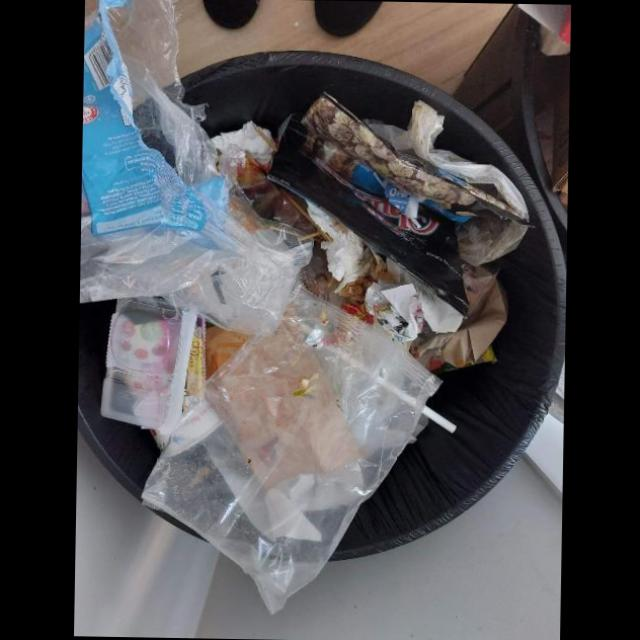bao_bi_thuc_pham: (266, 91, 529, 315)
giay: (409, 263, 508, 370), (305, 198, 375, 292), (364, 280, 423, 342), (410, 274, 463, 332), (210, 120, 275, 164), (205, 325, 246, 380)
tui_ni_long: (141, 285, 441, 613), (361, 99, 529, 220)
